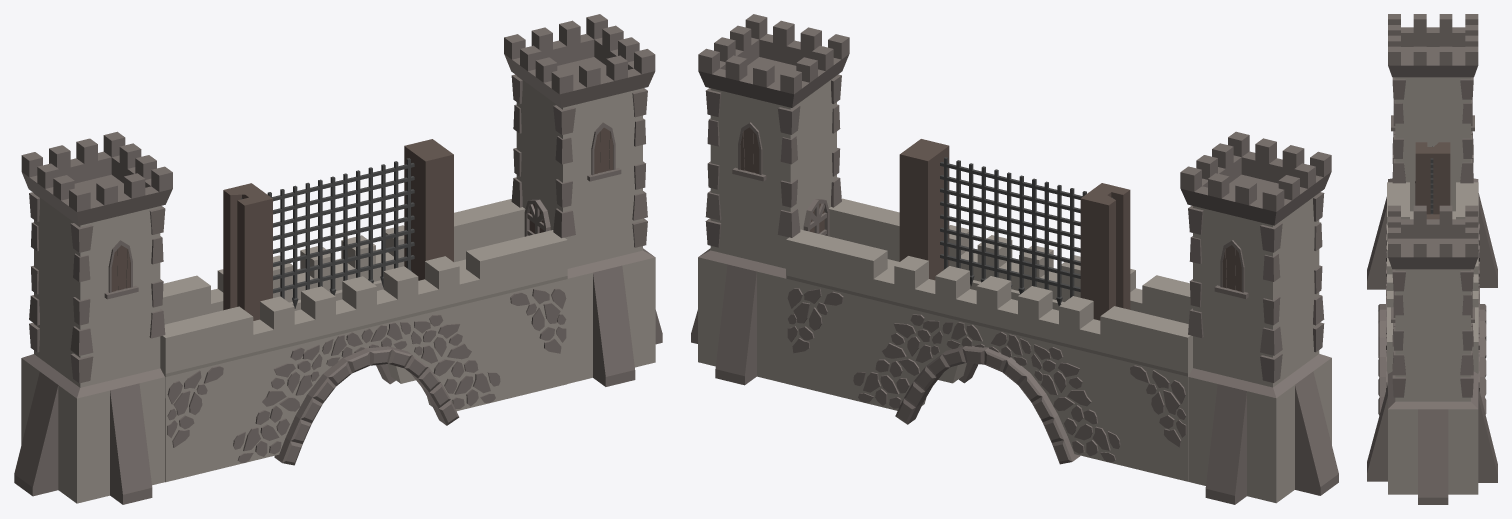
The model's file is 2_2 Watergate2.fbx.
3 renders of one model, left to right at view 1: azimuth 30°, elevation 25°; view 2: azimuth 150°, elevation 25°; view 3: azimuth 270°, elevation 25°, orthographic. The views are drawn at different scales.
Visible parts, largest first — view 1: Door_frame.001, Cube, Bridge_stones, Cube.004, Gate (metal), Cube.001; view 2: Door_frame.001, Cube, Bridge_stones.001, Cube.004, Gate (metal), Cube.005; view 3: Door_frame.001, Cube, Cube.004, Cube.001, Cube.005, Bridge_stones.001, Gate (metal), Bridge_stones.
Part boxes in pixels (x1,y1,x2,y2): Door_frame.001: (14, 14, 662, 504); Cube: (160, 199, 567, 482); Bridge_stones: (167, 288, 566, 462); Cube.004: (223, 139, 453, 320); Gate (metal): (267, 158, 414, 308); Cube.001: (274, 346, 459, 465); Door_frame.001: (691, 14, 1338, 504); Cube: (786, 198, 1192, 481); Bridge_stones.001: (787, 288, 1186, 462); Cube.004: (899, 139, 1130, 320); Gate (metal): (940, 157, 1086, 305); Cube.005: (895, 346, 1079, 464); Door_frame.001: (1367, 14, 1497, 504); Cube: (1387, 182, 1478, 384); Cube.004: (1415, 142, 1450, 219); Cube.001: (1378, 304, 1386, 415); Cube.005: (1479, 304, 1486, 414); Bridge_stones.001: (1478, 223, 1479, 391); Gate (metal): (1430, 158, 1433, 214); Bridge_stones: (1386, 223, 1387, 390).
Size of the model in its own units: 1880 by 907 by 415.
